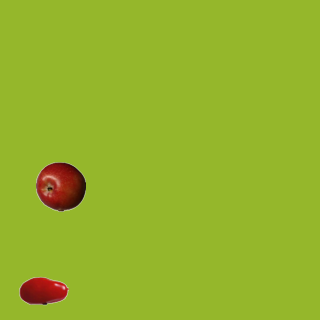Apple Braeburn: (35, 161, 85, 211)
Tomato 2: (18, 265, 68, 315)
